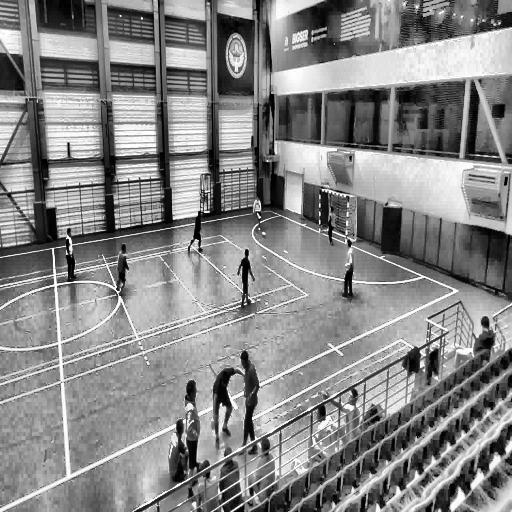ball: (261, 230, 268, 241)
player: (227, 348, 259, 453), (182, 380, 201, 476), (238, 248, 254, 309), (342, 239, 355, 298), (188, 209, 203, 253), (116, 243, 128, 296), (65, 228, 76, 279), (254, 194, 264, 231), (327, 205, 336, 246)
